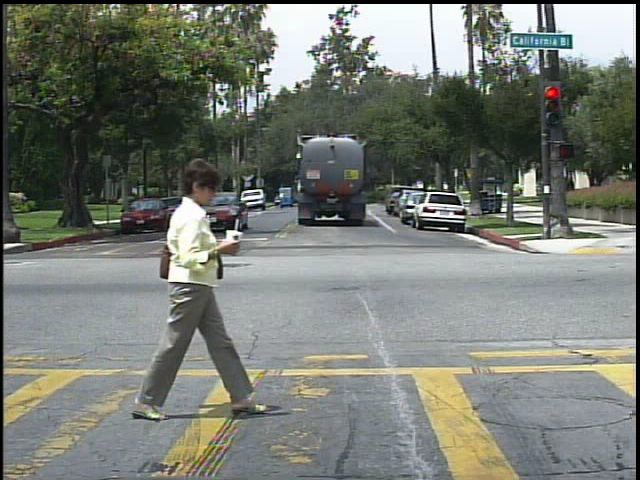person: (131, 151, 250, 423), (564, 172, 582, 206), (515, 181, 529, 200)
